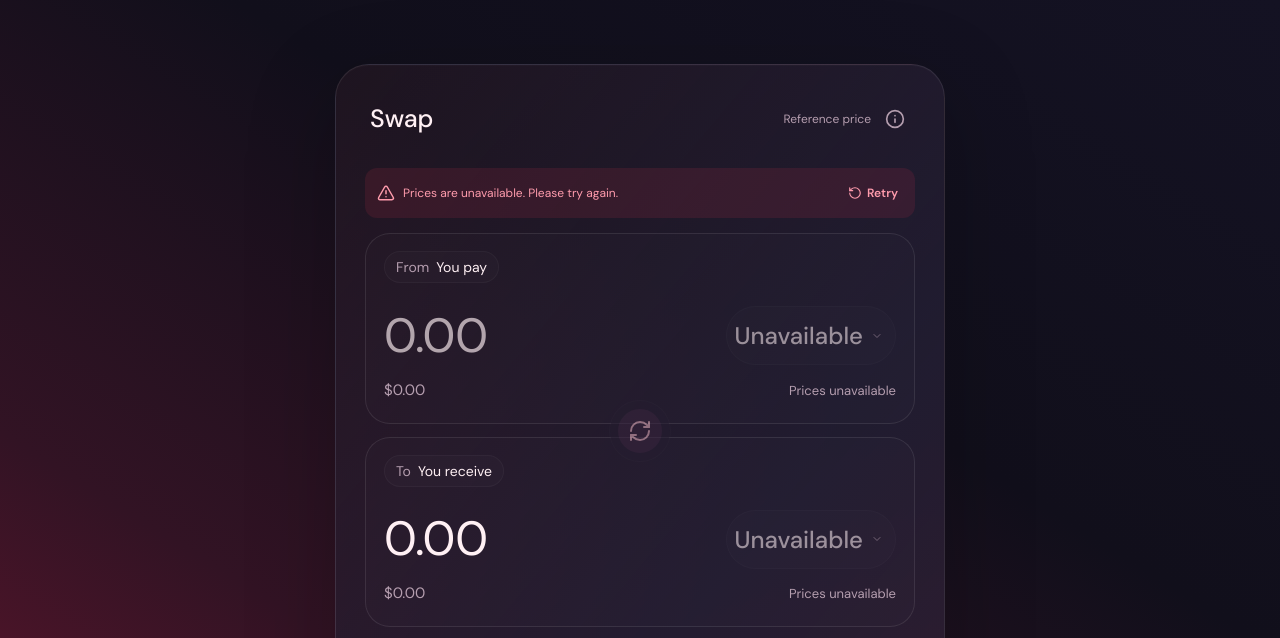
Scenario: swap interactions › offers explicit retry after a fetch failure
Click the button "Retry". click: coordinates (873, 193)
box: left=843, top=180, right=903, bottom=206
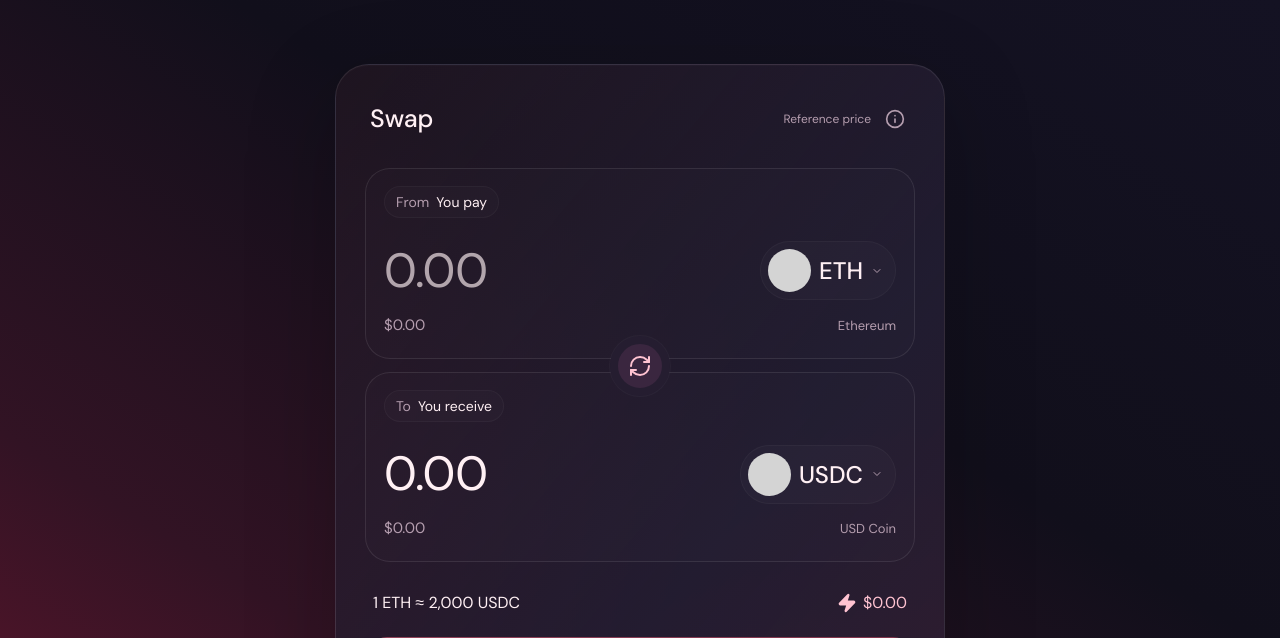
expect the button with aria-label "You pay: ETH. Select token" is enabled: met, box left=760, top=241, right=896, bottom=300
